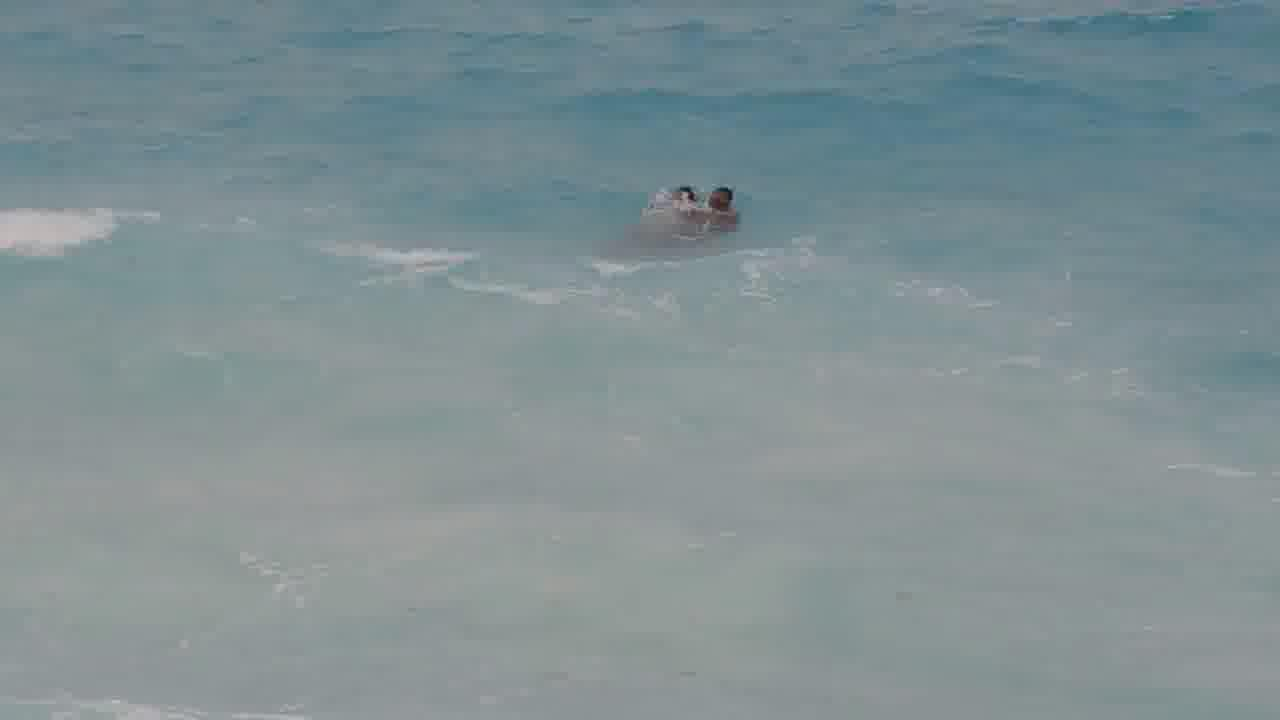human: (640, 170, 708, 235), (701, 176, 751, 231)
